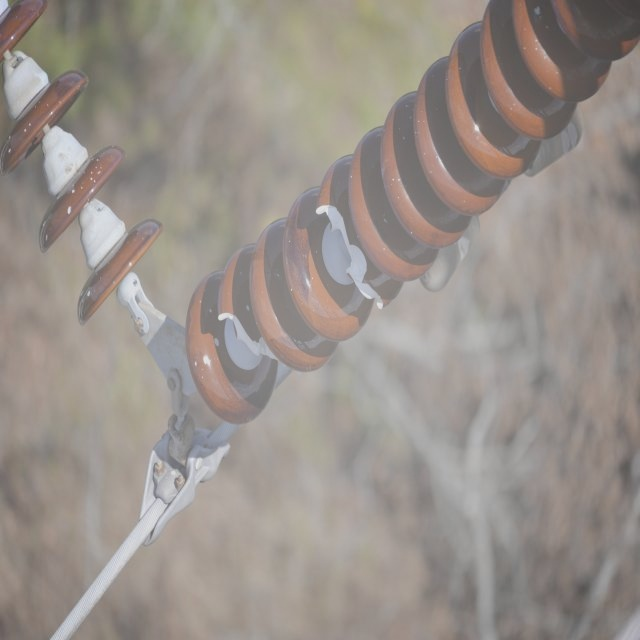broken: (316, 201, 385, 312), (214, 307, 294, 373)
insulator: (185, 0, 634, 424), (0, 8, 164, 324)
